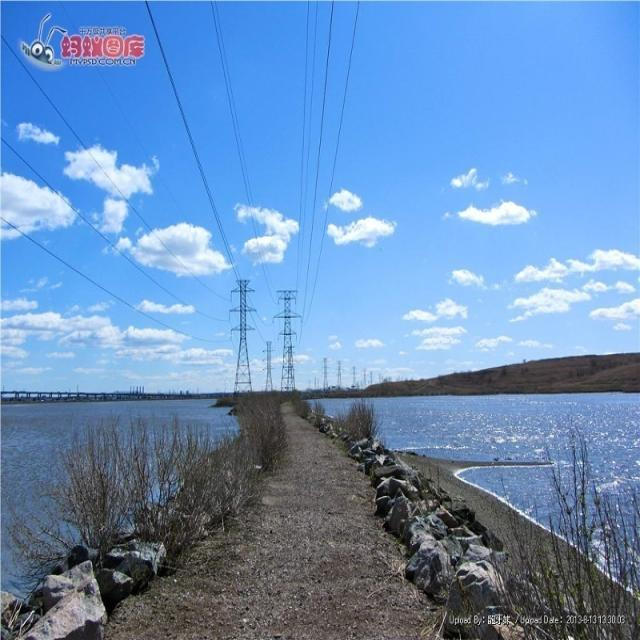non-critical vegetation: (212, 272, 258, 397), (269, 275, 309, 397)
